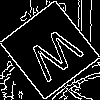W: (25, 25, 92, 91)
